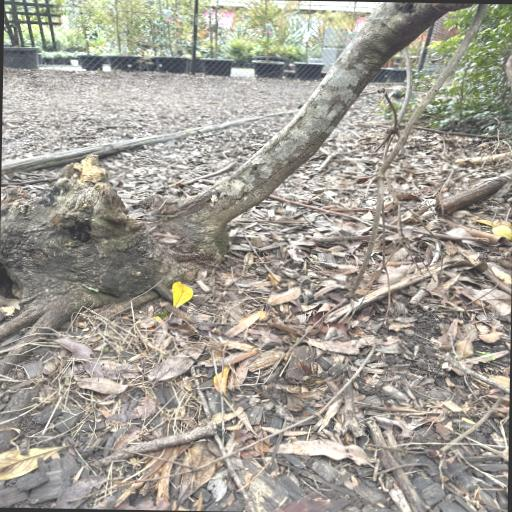tree root: (0, 2, 470, 341)
